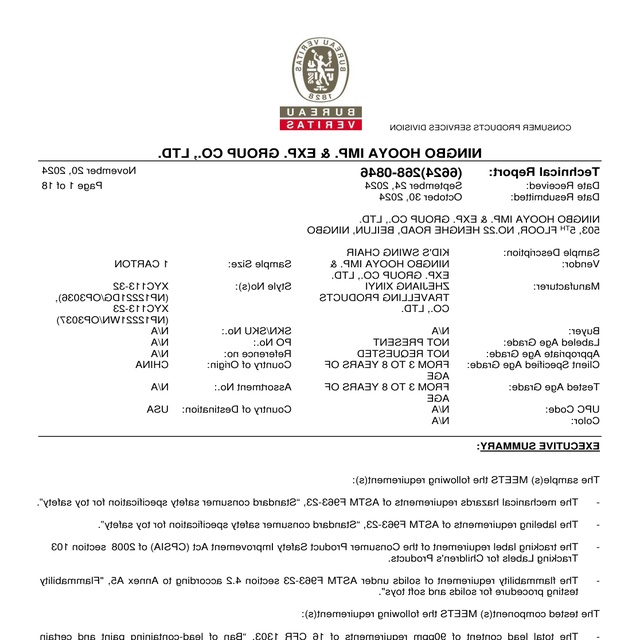bureau_veritas: (278, 32, 363, 135)
